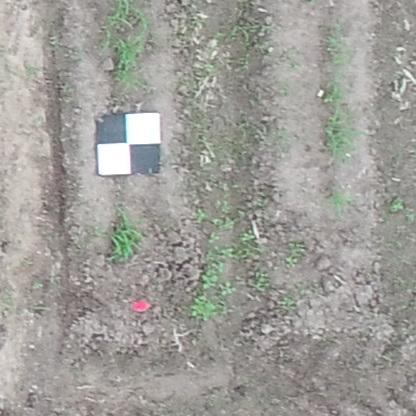corn: (107, 2, 153, 82), (327, 109, 364, 159), (109, 212, 140, 267), (324, 24, 350, 66)
vc: (199, 273, 221, 289), (241, 230, 254, 241)
